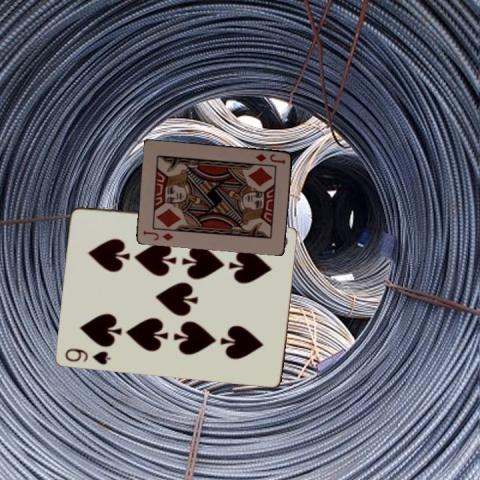9s: (62, 345, 113, 366)
Jd: (140, 227, 174, 242), (253, 151, 287, 165)
